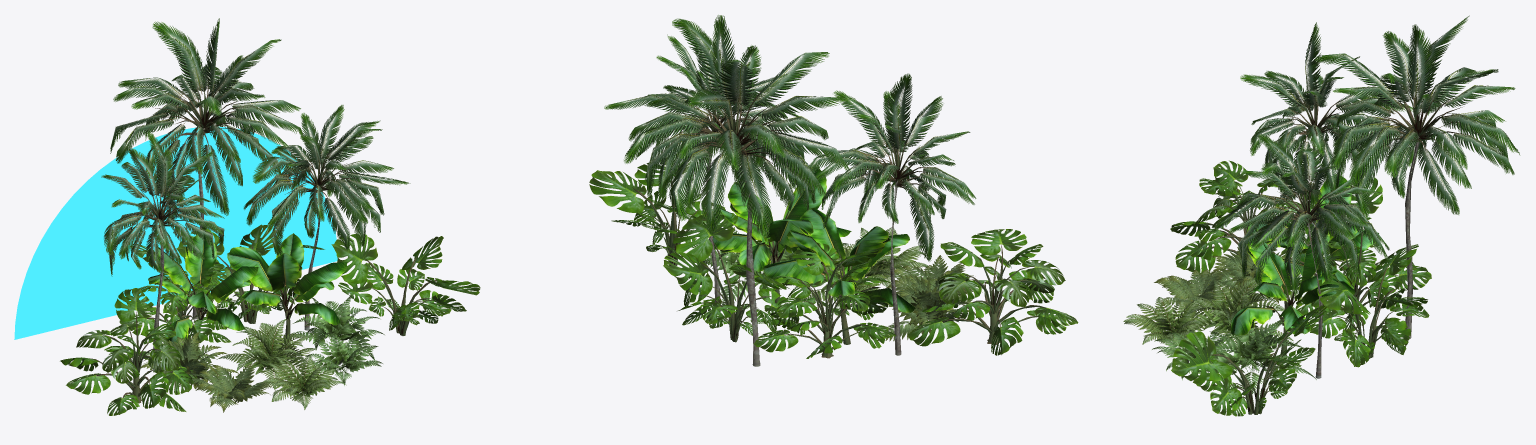
The model's file is plants.glb.
3 views of the same model, side by side, from view 1: azimuth 30°, elevation 25°; view 2: azimuth 150°, elevation 25°; view 3: azimuth 270°, elevation 25° (orthographic). The views are drawn at different scales.
Visible parts, largest first — view 1: SM_MZRa_Palm_B081_MI_MZRa_Palm_B08a_0, Circle_BG_01_0, tree.007SM_MZRa_Monstera_B072_MI_MZRa_Monstera_B07a1_0, SM_MZRa_Banana_B091_MI_MZRa_Banana_B09a_0, SM_MZRa_Fern_B0522_MI_MZRa_Fern_B052_0, SM_MZRa_Fern_B0532_MI_MZRa_Fern_B053_0, SM_MZRa_Fern_B0512_MI_MZRa_Fern_B051_0, SM_MZRa_Palm_B081_MI_MZRa_Palm_B08b_0, tree.006SM_MZRa_Monstera_B071_MI_MZRa_Monstera_B07a2_0, tree.007SM_MZRa_Monstera_B072_MI_MZRa_Monstera_B07b_0, SM_MZRa_Banana_B091_MI_MZRa_Banana_B09b_0; view 2: SM_MZRa_Palm_B081_MI_MZRa_Palm_B08a_0, tree.007SM_MZRa_Monstera_B072_MI_MZRa_Monstera_B07a1_0, SM_MZRa_Banana_B091_MI_MZRa_Banana_B09a_0, tree.007SM_MZRa_Monstera_B072_MI_MZRa_Monstera_B07b_0, SM_MZRa_Palm_B081_MI_MZRa_Palm_B08b_0, SM_MZRa_Fern_B0512_MI_MZRa_Fern_B051_0, tree.006SM_MZRa_Monstera_B071_MI_MZRa_Monstera_B07a2_0, SM_MZRa_Fern_B0522_MI_MZRa_Fern_B052_0, SM_MZRa_Fern_B0532_MI_MZRa_Fern_B053_0, SM_MZRa_Banana_B091_MI_MZRa_Banana_B09b_0; view 3: SM_MZRa_Palm_B081_MI_MZRa_Palm_B08a_0, tree.007SM_MZRa_Monstera_B072_MI_MZRa_Monstera_B07a1_0, SM_MZRa_Banana_B091_MI_MZRa_Banana_B09a_0, SM_MZRa_Fern_B0522_MI_MZRa_Fern_B052_0, SM_MZRa_Palm_B081_MI_MZRa_Palm_B08b_0, SM_MZRa_Fern_B0532_MI_MZRa_Fern_B053_0, tree.007SM_MZRa_Monstera_B072_MI_MZRa_Monstera_B07b_0, SM_MZRa_Fern_B0512_MI_MZRa_Fern_B051_0, tree.006SM_MZRa_Monstera_B071_MI_MZRa_Monstera_B07a2_0, SM_MZRa_Banana_B091_MI_MZRa_Banana_B09b_0.
Part boxes in pixels (box(x1,y1,x2,y2)): SM_MZRa_Palm_B081_MI_MZRa_Palm_B08a_0: box(101, 18, 410, 276); Circle_BG_01_0: box(14, 126, 337, 339); tree.007SM_MZRa_Monstera_B072_MI_MZRa_Monstera_B07a1_0: box(60, 224, 480, 415); SM_MZRa_Banana_B091_MI_MZRa_Banana_B09a_0: box(148, 233, 347, 346); SM_MZRa_Fern_B0522_MI_MZRa_Fern_B052_0: box(216, 319, 346, 409); SM_MZRa_Fern_B0532_MI_MZRa_Fern_B053_0: box(285, 294, 384, 385); SM_MZRa_Fern_B0512_MI_MZRa_Fern_B051_0: box(140, 331, 275, 412); SM_MZRa_Palm_B081_MI_MZRa_Palm_B08b_0: box(123, 77, 356, 365); tree.006SM_MZRa_Monstera_B071_MI_MZRa_Monstera_B07a2_0: box(76, 321, 181, 383); tree.007SM_MZRa_Monstera_B072_MI_MZRa_Monstera_B07b_0: box(89, 241, 443, 403); SM_MZRa_Banana_B091_MI_MZRa_Banana_B09b_0: box(181, 272, 309, 348); SM_MZRa_Palm_B081_MI_MZRa_Palm_B08a_0: box(604, 15, 976, 261); tree.007SM_MZRa_Monstera_B072_MI_MZRa_Monstera_B07a1_0: box(589, 153, 1078, 358); SM_MZRa_Banana_B091_MI_MZRa_Banana_B09a_0: box(709, 166, 915, 312); tree.007SM_MZRa_Monstera_B072_MI_MZRa_Monstera_B07b_0: box(632, 177, 1046, 358); SM_MZRa_Palm_B081_MI_MZRa_Palm_B08b_0: box(673, 85, 934, 366); SM_MZRa_Fern_B0512_MI_MZRa_Fern_B051_0: box(877, 255, 982, 341); tree.006SM_MZRa_Monstera_B071_MI_MZRa_Monstera_B07a2_0: box(938, 254, 1065, 307); SM_MZRa_Fern_B0522_MI_MZRa_Fern_B052_0: box(801, 227, 929, 307); SM_MZRa_Fern_B0532_MI_MZRa_Fern_B053_0: box(696, 224, 848, 311); SM_MZRa_Banana_B091_MI_MZRa_Banana_B09b_0: box(761, 208, 880, 344); SM_MZRa_Palm_B081_MI_MZRa_Palm_B08a_0: box(1212, 15, 1520, 294); tree.007SM_MZRa_Monstera_B072_MI_MZRa_Monstera_B07a1_0: box(1170, 160, 1431, 416); SM_MZRa_Banana_B091_MI_MZRa_Banana_B09a_0: box(1230, 174, 1378, 335); SM_MZRa_Fern_B0522_MI_MZRa_Fern_B052_0: box(1123, 279, 1293, 349); SM_MZRa_Palm_B081_MI_MZRa_Palm_B08b_0: box(1263, 75, 1468, 378); SM_MZRa_Fern_B0532_MI_MZRa_Fern_B053_0: box(1152, 319, 1316, 393); tree.007SM_MZRa_Monstera_B072_MI_MZRa_Monstera_B07b_0: box(1194, 184, 1402, 414); SM_MZRa_Fern_B0512_MI_MZRa_Fern_B051_0: box(1154, 243, 1302, 312); tree.006SM_MZRa_Monstera_B071_MI_MZRa_Monstera_B07a2_0: box(1194, 178, 1311, 228); SM_MZRa_Banana_B091_MI_MZRa_Banana_B09b_0: box(1261, 238, 1331, 358).
Size of the model in its own units: 10.36 by 7.27 by 7.67.
Materials: 11 (10 with a texture image).
